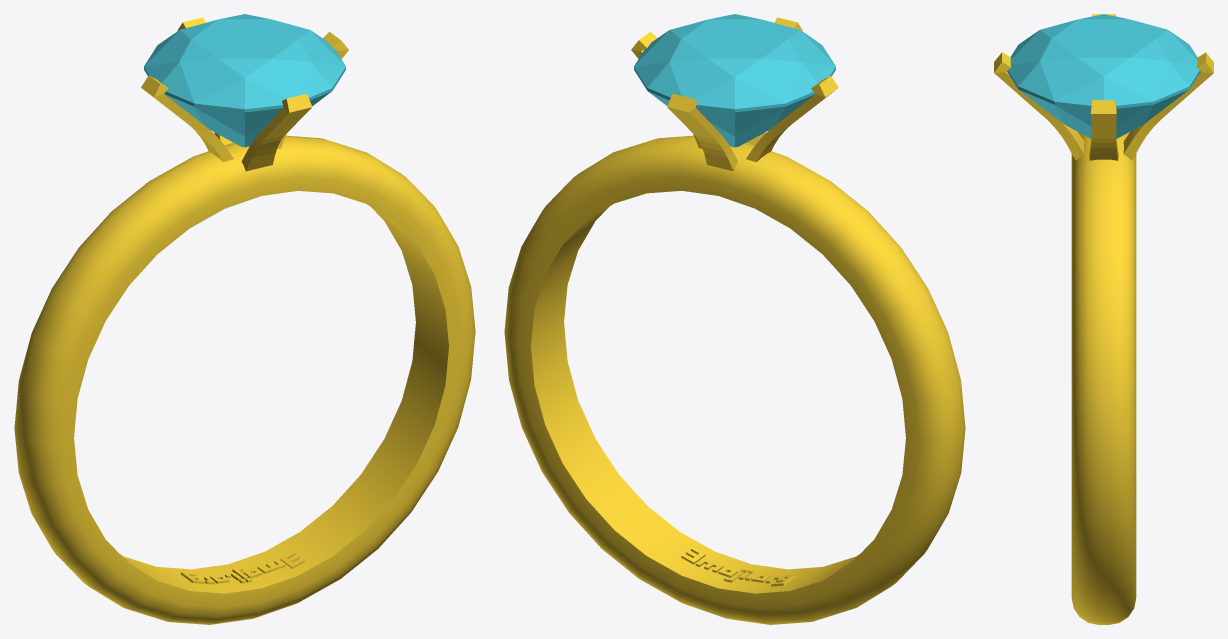
The model's file is ring.glb.
3 renders of one model, left to right at view 1: azimuth 30°, elevation 25°; view 2: azimuth 150°, elevation 25°; view 3: azimuth 270°, elevation 25°, orthographic. The views are drawn at different scales.
Visible parts, largest first — view 1: Circle.1817; view 2: Circle.1817; view 3: Circle.1817.
Boxes of the visible parts, bbox=[...] form: Circle.1817: bbox=[14, 14, 475, 624]; Circle.1817: bbox=[504, 14, 965, 624]; Circle.1817: bbox=[994, 14, 1213, 624].
Bounding box in the file's own units: 1.83 × 2.24 × 0.7931.
1 material, 1 textured.
